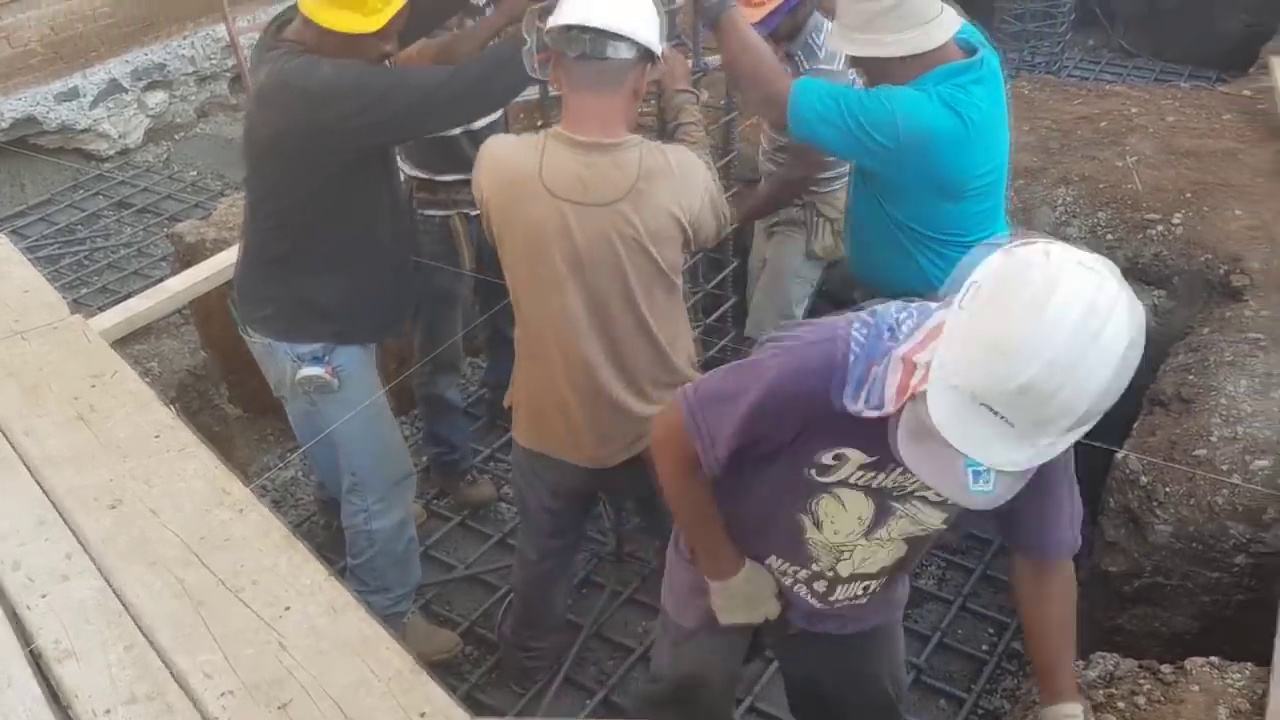helmet: (925, 228, 1148, 476), (542, 0, 664, 60), (289, 0, 408, 35)
helmet-off: (829, 0, 974, 96)
helmet-on: (887, 230, 1151, 509), (534, 0, 670, 146), (288, 0, 407, 77)
person: (629, 230, 1187, 720), (217, 0, 531, 660), (470, 2, 713, 676), (713, 0, 1009, 300), (402, 0, 530, 517), (716, 0, 860, 357)
